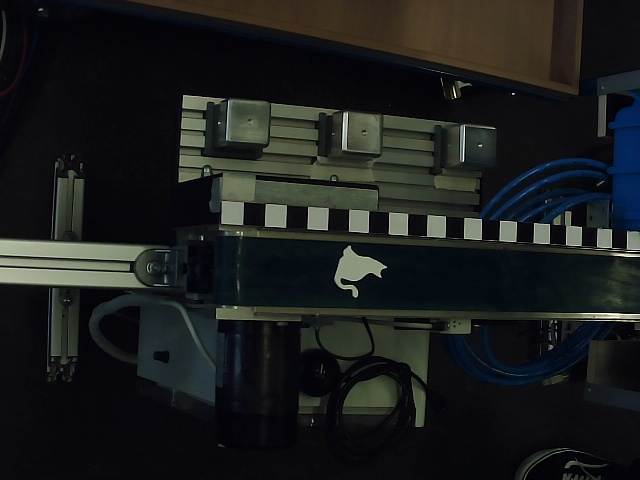cat: (334, 245, 389, 298)
